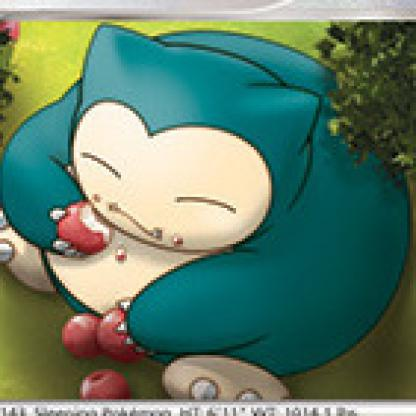Snorlax: (1, 23, 414, 403)
